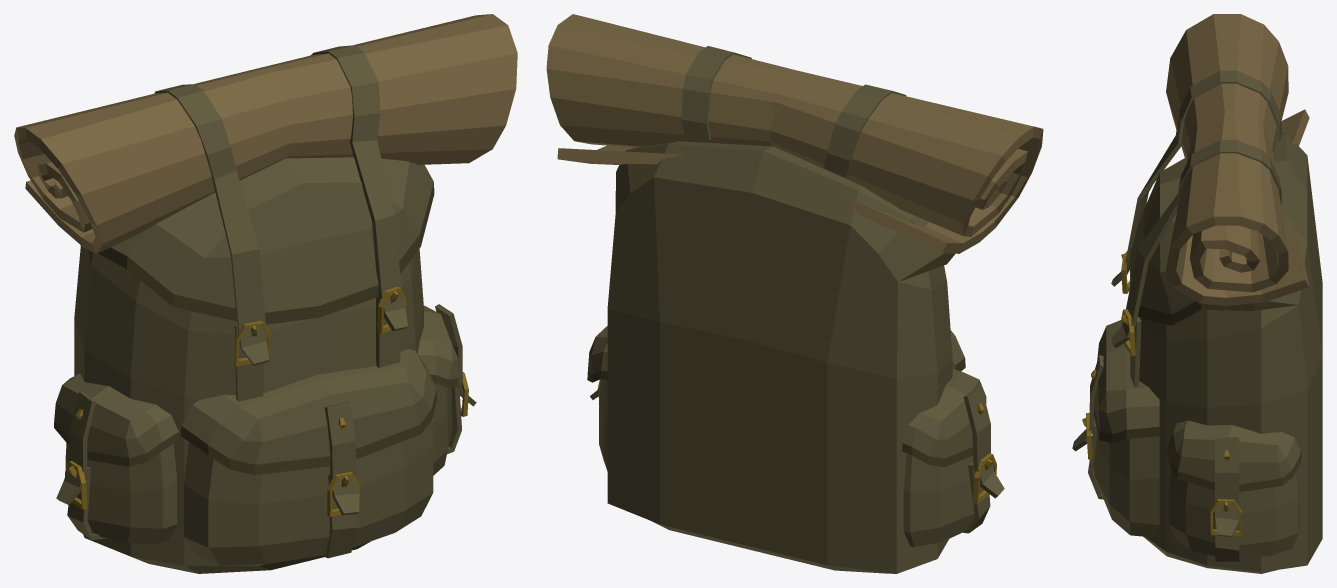
File: backpack.glb
3 renders of one model, left to right at view 1: azimuth 30°, elevation 25°; view 2: azimuth 150°, elevation 25°; view 3: azimuth 270°, elevation 25°, orthographic. The views are drawn at different scales.
Visible parts, largest first — view 1: Backpack; view 2: Backpack; view 3: Backpack.
Boxes of the visible parts, box(x1,y1,x2,y2) form: Backpack: box(14, 14, 517, 573); Backpack: box(546, 14, 1043, 573); Backpack: box(1072, 14, 1322, 573).
Size of the model in its own units: 3.34 by 3.12 by 1.75.
